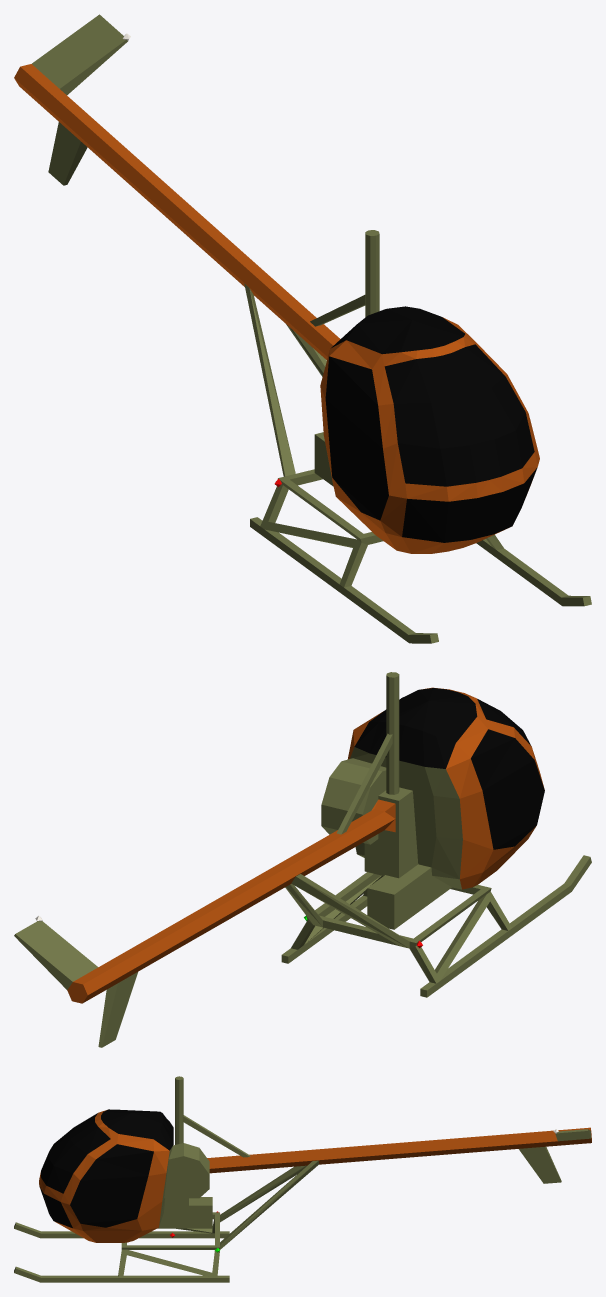
File: SCWZR300.glb
3 views of the same model, one above another, from view 1: azimuth 30°, elevation 25°; view 2: azimuth 150°, elevation 25°; view 3: azimuth 270°, elevation 25° (orthographic). The views are drawn at different scales.
Parts seen in each view (by area): view 1: SCWZR300 | archived geometry; view 2: SCWZR300 | archived geometry; view 3: SCWZR300 | archived geometry.
Part boxes in pixels (<box>): SCWZR300 | archived geometry: <box>14,14,591,643</box>; SCWZR300 | archived geometry: <box>14,672,591,1047</box>; SCWZR300 | archived geometry: <box>14,1076,591,1282</box>.
Size of the model in its own units: 1.26 by 2.29 by 6.62.
